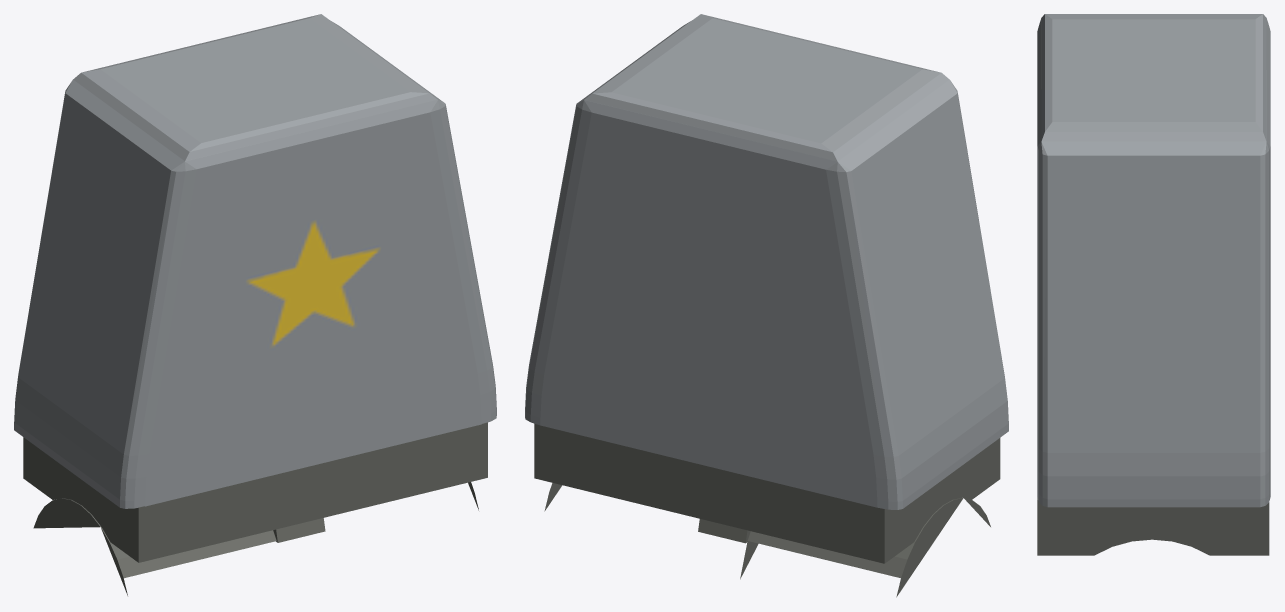
Rendered from torso.glb.
3 renders of one model, left to right at view 1: azimuth 30°, elevation 25°; view 2: azimuth 150°, elevation 25°; view 3: azimuth 270°, elevation 25°, orthographic.
Visible parts, largest first — view 1: knight_torso; view 2: knight_torso; view 3: knight_torso.
Part boxes in pixels (x1,y1,x2,y2): knight_torso: (14,14,496,595); knight_torso: (525,14,1008,597); knight_torso: (1037,14,1270,555).
Bounding box in the file's own units: 0.6858 × 0.7937 × 0.3654.
3 materials, 1 textured.
